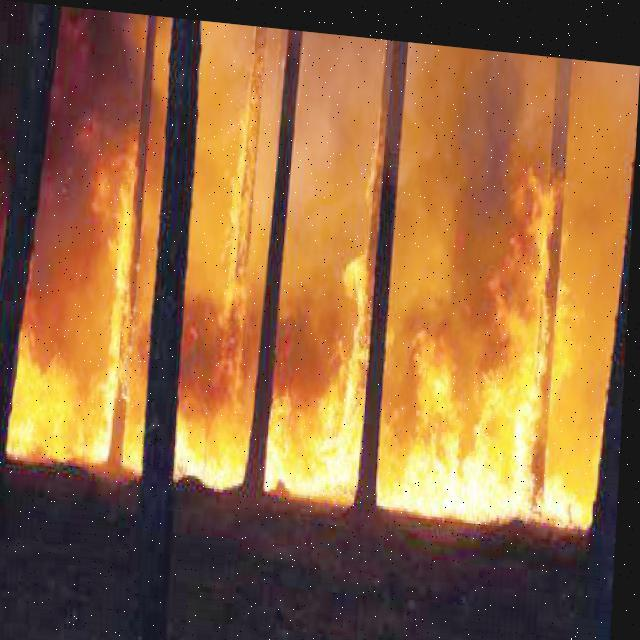Fire: (8, 69, 618, 515)
